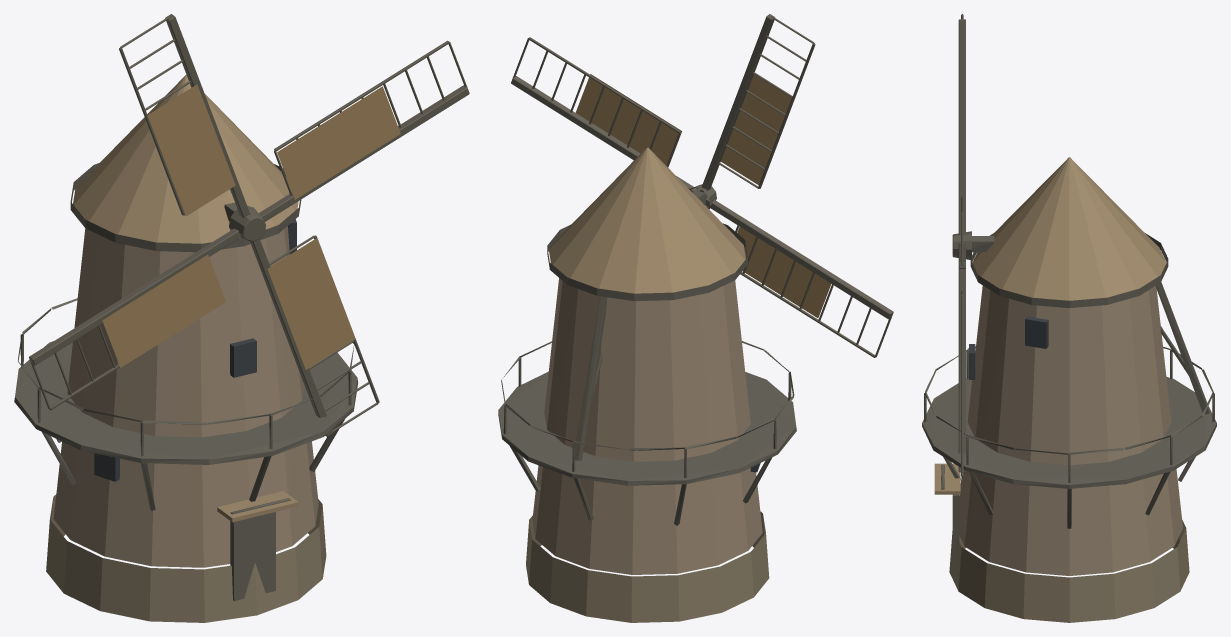
The model's file is windmill-lod1.glb.
The picture shows the model from 3 angles, left to right: view 1: azimuth 30°, elevation 25°; view 2: azimuth 150°, elevation 25°; view 3: azimuth 270°, elevation 25°; orthographic projection. The views are drawn at different scales.
Bounding box in the file's own units: 13.22 × 17.71 × 9.08.
